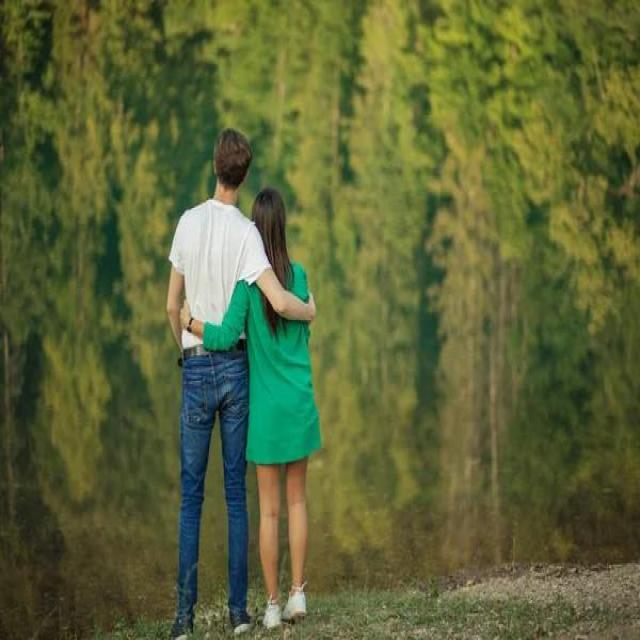person: (182, 200, 340, 629), (162, 110, 265, 632)
